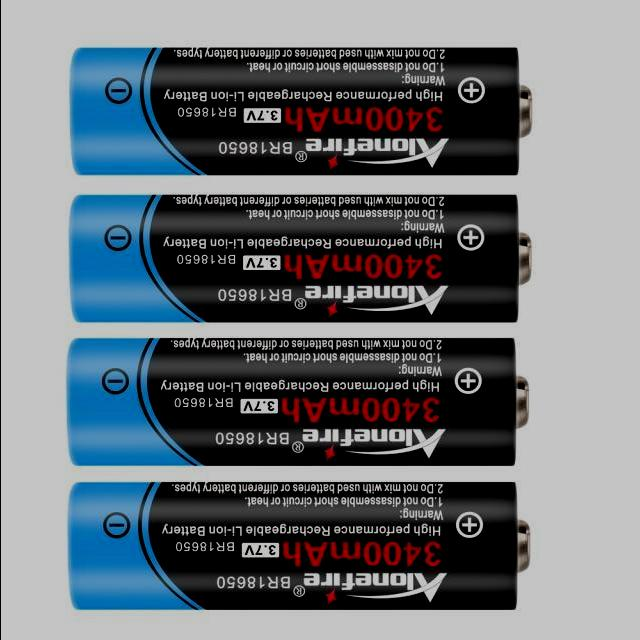AA: (68, 480, 531, 610), (69, 193, 532, 323), (66, 336, 529, 466), (70, 46, 533, 175)
